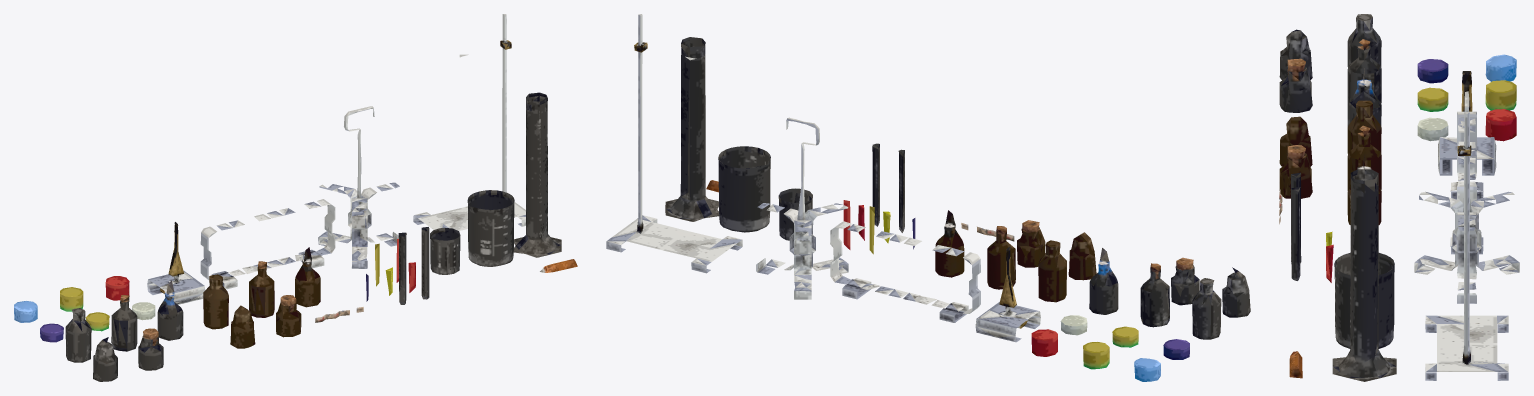
The model's file is chem_pt.glb.
3 views of the same model, side by side, from view 1: azimuth 30°, elevation 25°; view 2: azimuth 150°, elevation 25°; view 3: azimuth 270°, elevation 25° (orthographic). The views are drawn at different scales.
Visible parts, largest first — view 1: mesh; view 2: mesh; view 3: mesh.
Boxes of the visible parts, x1,y1,x2,y2 form: mesh: (14,14,577,381); mesh: (606,14,1250,381); mesh: (1279,14,1519,381).
Bounding box in the file's own units: 1.01 × 0.4 × 0.3304.
1 material, 1 textured.
